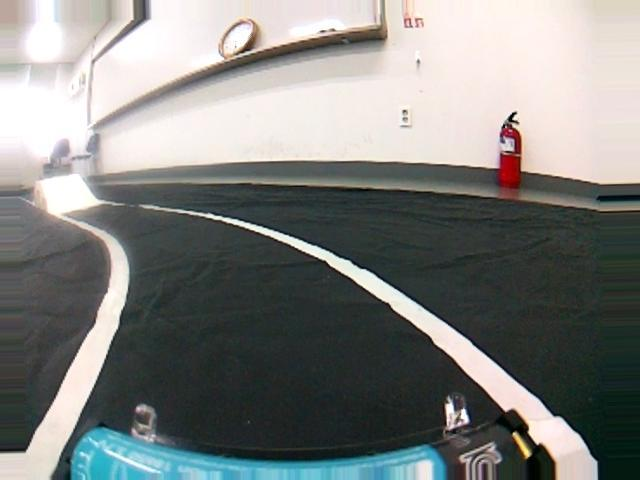straight: (5, 255, 640, 476)
